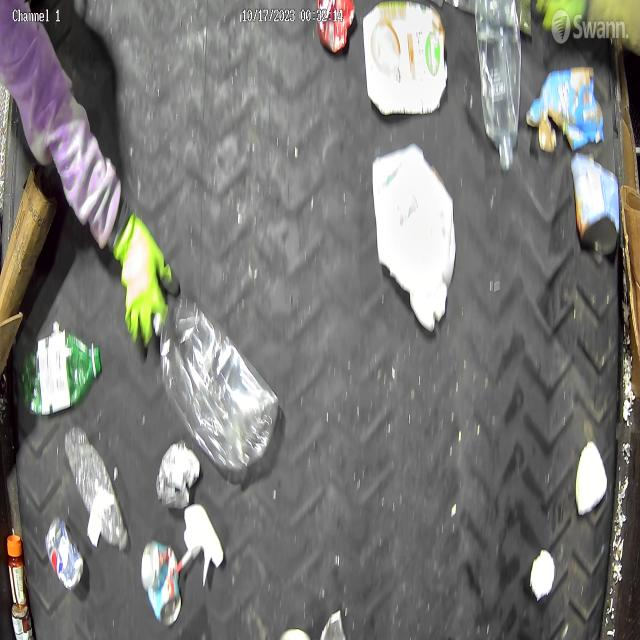can: (571, 152, 621, 257), (139, 540, 181, 628), (43, 515, 84, 591), (155, 441, 200, 508)
milk_jug: (370, 140, 458, 336)
non_white_jug: (362, 0, 448, 114)
plastic_bottle: (157, 295, 281, 471), (63, 424, 129, 552), (474, 2, 522, 172)
